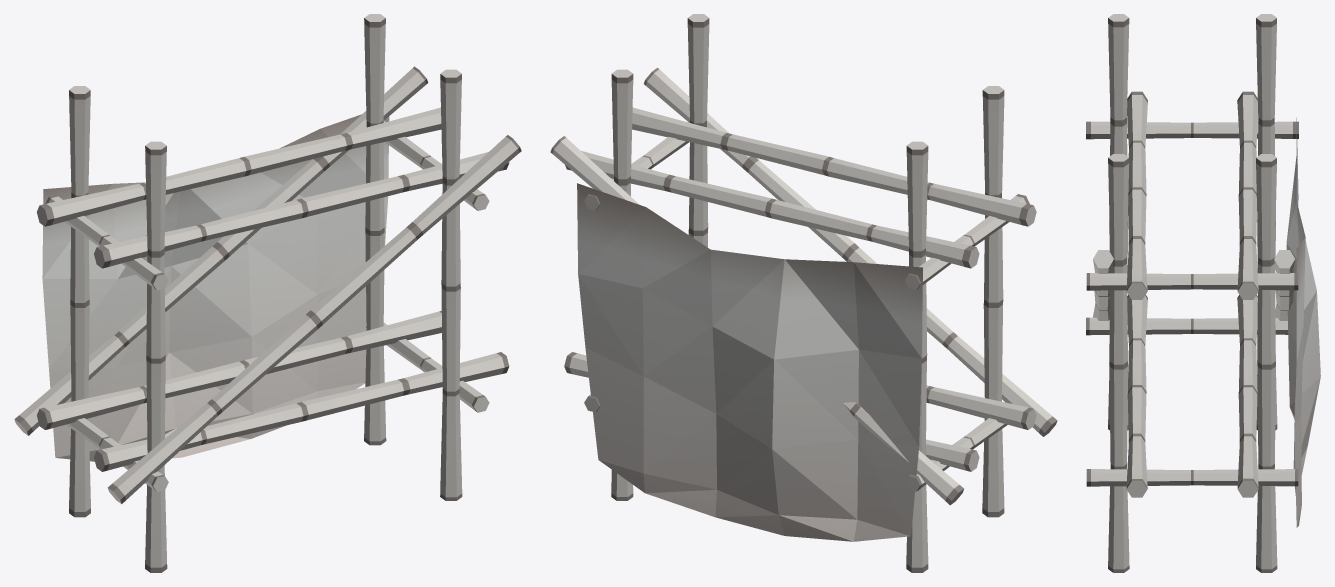
Rendered from Bamboo_forest_2_fabric.fbx.
3 views of the same model, side by side, from view 1: azimuth 30°, elevation 25°; view 2: azimuth 150°, elevation 25°; view 3: azimuth 270°, elevation 25° (orthographic). The views are drawn at different scales.
Visible parts, largest first — view 1: Bamboo_forest_2_fabric; view 2: Bamboo_forest_2_fabric; view 3: Bamboo_forest_2_fabric.
Boxes of the visible parts, x1,y1,x2,y2 form: Bamboo_forest_2_fabric: (14, 14, 521, 572); Bamboo_forest_2_fabric: (550, 14, 1057, 572); Bamboo_forest_2_fabric: (1086, 14, 1320, 572).
Size of the model in its own units: 406 by 399 by 207.
Materials: 1 (1 with a texture image).
